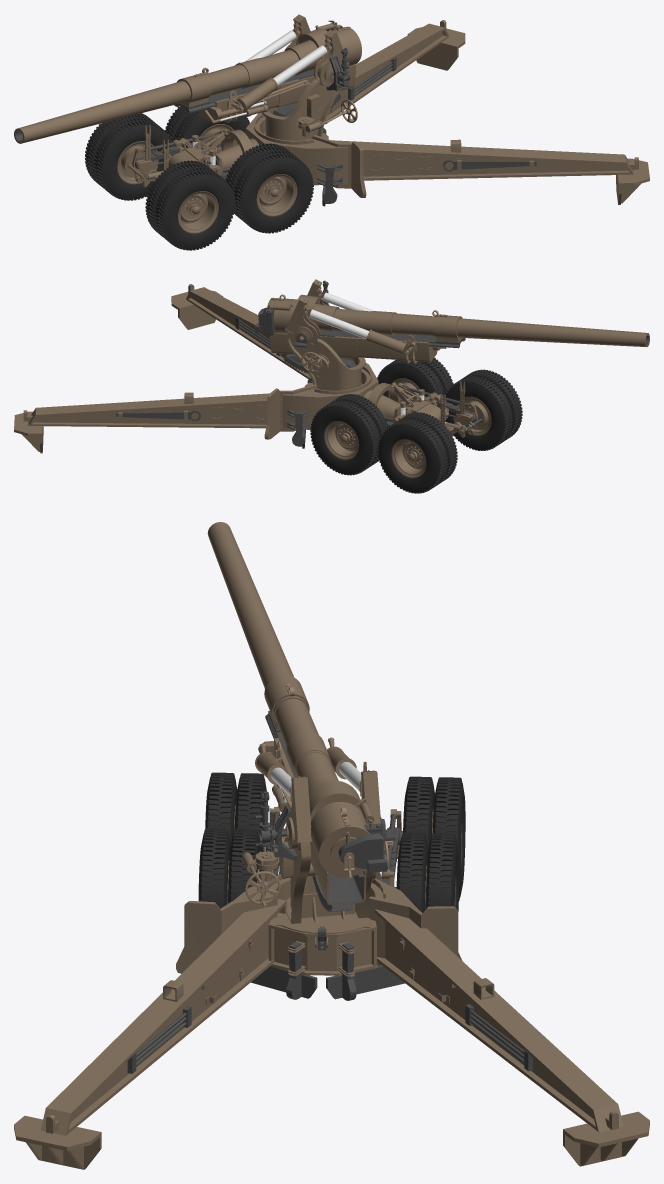
File: 155mm_M2_ Long_Tom _KursDR.fbx
The picture shows the model from 3 angles, top to bottom: view 1: azimuth 30°, elevation 25°; view 2: azimuth 150°, elevation 25°; view 3: azimuth 270°, elevation 25°; orthographic projection. The views are drawn at different scales.
Parts seen in each view (by area): view 1: Cube.003, Cylinder.001, Cylinder.008, Cylinder.044, Cylinder.009, Bolt.014, Cylinder.139, Cube.001, Cylinder.006, Cylinder.048, Cube.037, Cylinder.007 (+13 smaller); view 2: Cube.003, Cylinder.001, Cylinder.008, Cylinder.009, Cylinder.044, Bolt.014, Cylinder.048, Cylinder.006, Cylinder.139, Cube.001, Cube, Cube.036 (+12 smaller); view 3: Cube.003, Cylinder.001, Cube.037, Cylinder.044, Cylinder.008, Cube.002, Cylinder.141, Cylinder.048, Cylinder.009, Cylinder.005, Cylinder.139, Cylinder.007 (+7 smaller).
Boxes of the visible parts, left/top/right/bottom form: Cube.003: left=307, top=20, right=649, bottom=204; Cylinder.001: left=14, top=50, right=314, bottom=143; Cylinder.008: left=85, top=113, right=235, bottom=250; Cylinder.044: left=165, top=106, right=313, bottom=233; Cylinder.009: left=94, top=118, right=215, bottom=236; Bolt.014: left=117, top=124, right=297, bottom=233; Cylinder.139: left=227, top=23, right=335, bottom=111; Cube.001: left=246, top=112, right=347, bottom=185; Cylinder.006: left=261, top=79, right=340, bottom=140; Cylinder.048: left=173, top=110, right=294, bottom=219; Cube.037: left=312, top=135, right=366, bottom=197; Cylinder.007: left=285, top=17, right=349, bottom=85; Cube.003: left=14, top=284, right=310, bottom=453; Cylinder.001: left=320, top=309, right=649, bottom=346; Cylinder.008: left=377, top=369, right=522, bottom=493; Cylinder.009: left=398, top=376, right=512, bottom=483; Cylinder.044: left=310, top=357, right=453, bottom=475; Bolt.014: left=324, top=378, right=491, bottom=477; Cylinder.048: left=330, top=359, right=444, bottom=465; Cylinder.006: left=286, top=333, right=365, bottom=390; Cylinder.139: left=301, top=287, right=416, bottom=355; Cube.001: left=283, top=363, right=378, bottom=429; Cube: left=334, top=336, right=437, bottom=361; Cube.036: left=270, top=333, right=358, bottom=358; Cube.003: left=14, top=899, right=649, bottom=1169; Cylinder.001: left=207, top=522, right=338, bottom=786; Cube.037: left=176, top=895, right=461, bottom=973; Cylinder.044: left=198, top=828, right=458, bottom=911; Cylinder.008: left=205, top=772, right=465, bottom=901; Cube.002: left=268, top=917, right=376, bottom=975; Cylinder.141: left=251, top=941, right=404, bottom=1000; Cylinder.048: left=228, top=829, right=428, bottom=912; Cylinder.009: left=234, top=773, right=434, bottom=870; Cylinder.005: left=311, top=802, right=370, bottom=877; Cylinder.139: left=255, top=737, right=362, bottom=802; Cylinder.007: left=289, top=772, right=380, bottom=842.
Bounding box in the file's own units: 509 × 137 × 324.
